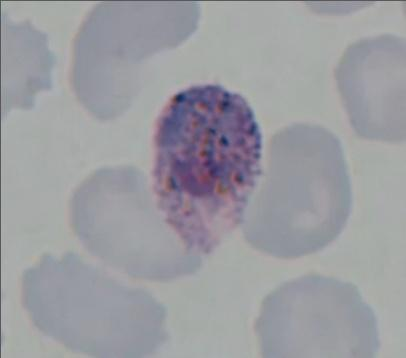Infected: (150, 81, 264, 260)
Uninfected: (15, 248, 171, 358), (65, 0, 198, 121), (68, 161, 196, 282), (241, 120, 351, 259), (254, 272, 377, 358), (336, 28, 406, 144)
